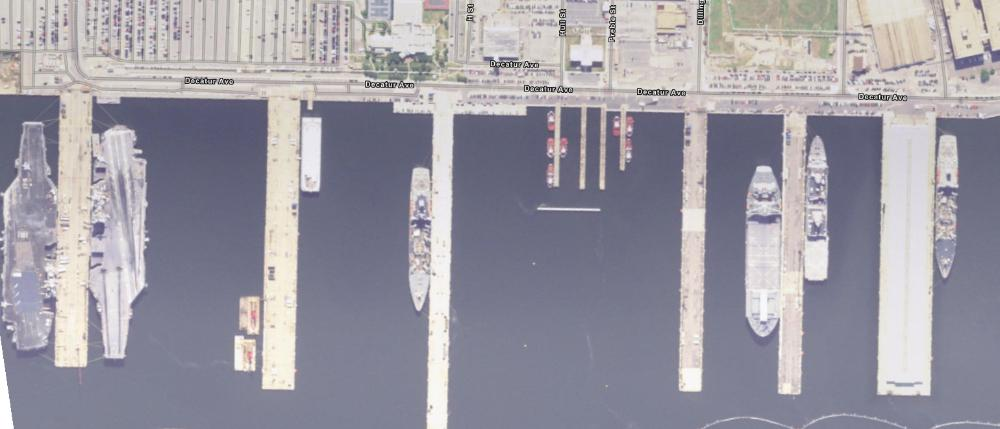supply: (743, 159, 787, 340)
tender: (406, 161, 433, 319), (938, 129, 962, 283)
